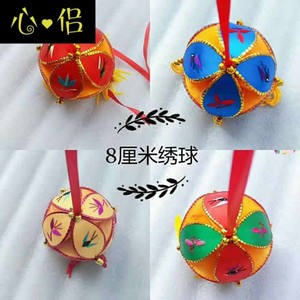xiuqiu: (179, 191, 272, 283), (37, 43, 117, 102)
